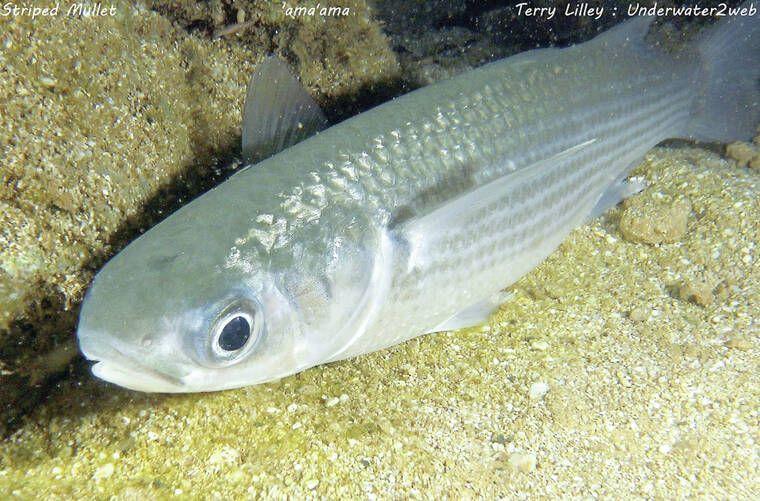Mullet: (77, 15, 759, 398)
